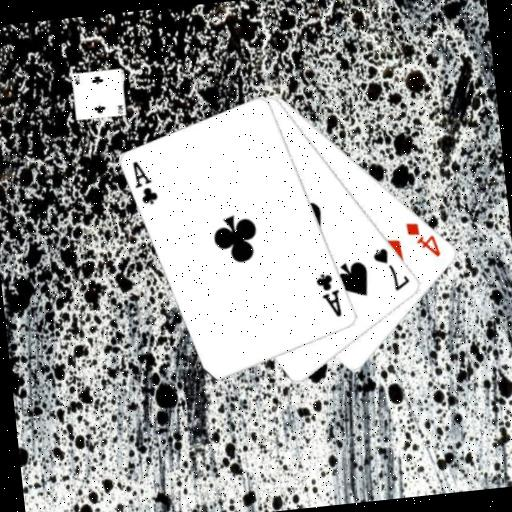4D: (403, 216, 444, 262)
7S: (370, 242, 413, 295)
AC: (312, 269, 344, 321), (129, 156, 160, 208)
